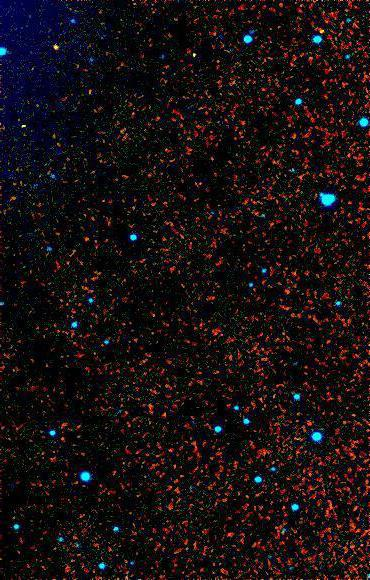star: (42, 32, 72, 62)
